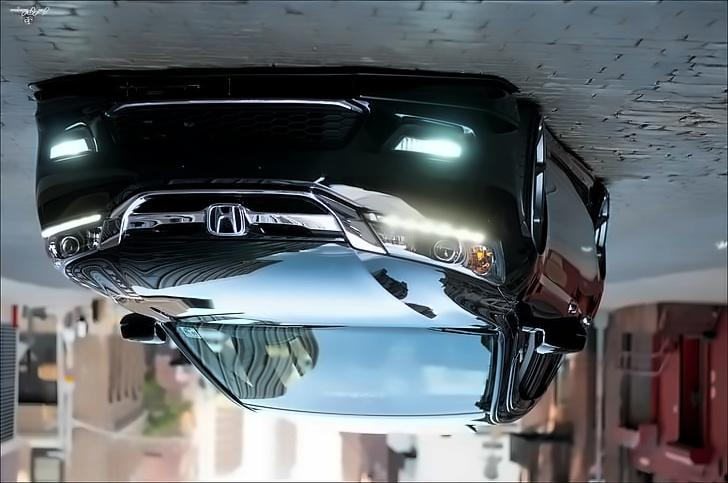Car hood: (51, 229, 524, 335)
Driver-s door - -F-R-: (502, 124, 580, 416)
Front bumper: (17, 62, 531, 202)
Headlight - -L-: (32, 206, 115, 275)
Headlight - -R-: (353, 199, 511, 291)
Passenger-s door - -R-R-: (525, 152, 605, 422)
Side bumper - -R-: (540, 124, 603, 208)
Side mirror - -L-: (115, 306, 175, 350)
Side mirror - -R-: (515, 296, 592, 363)
